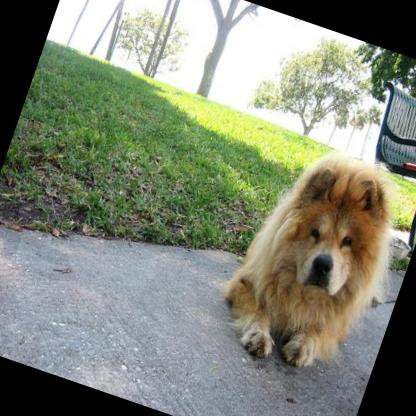chow: (204, 126, 414, 388)
